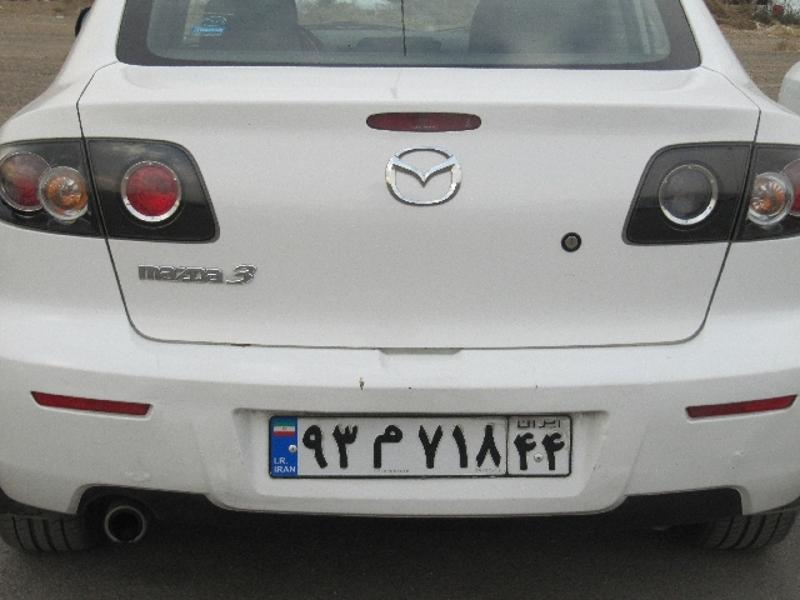Plate: (240, 402, 599, 488)
